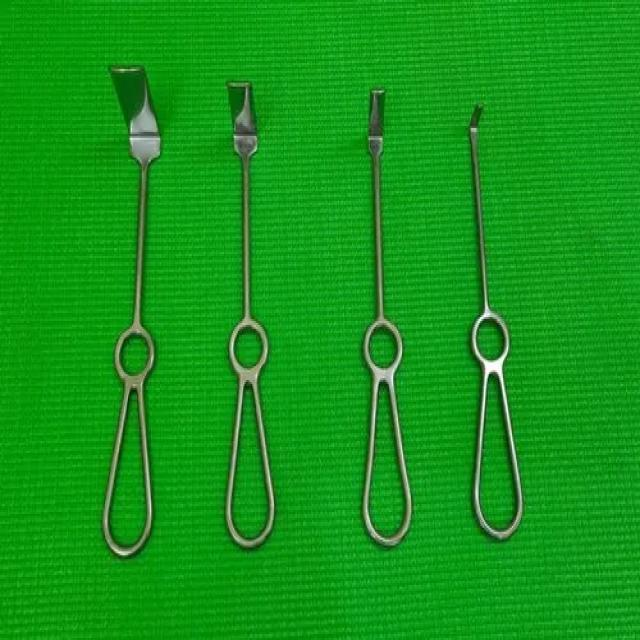Langenbach Retractor: (454, 84, 532, 554), (96, 35, 164, 568), (218, 67, 282, 563), (353, 85, 418, 562)
